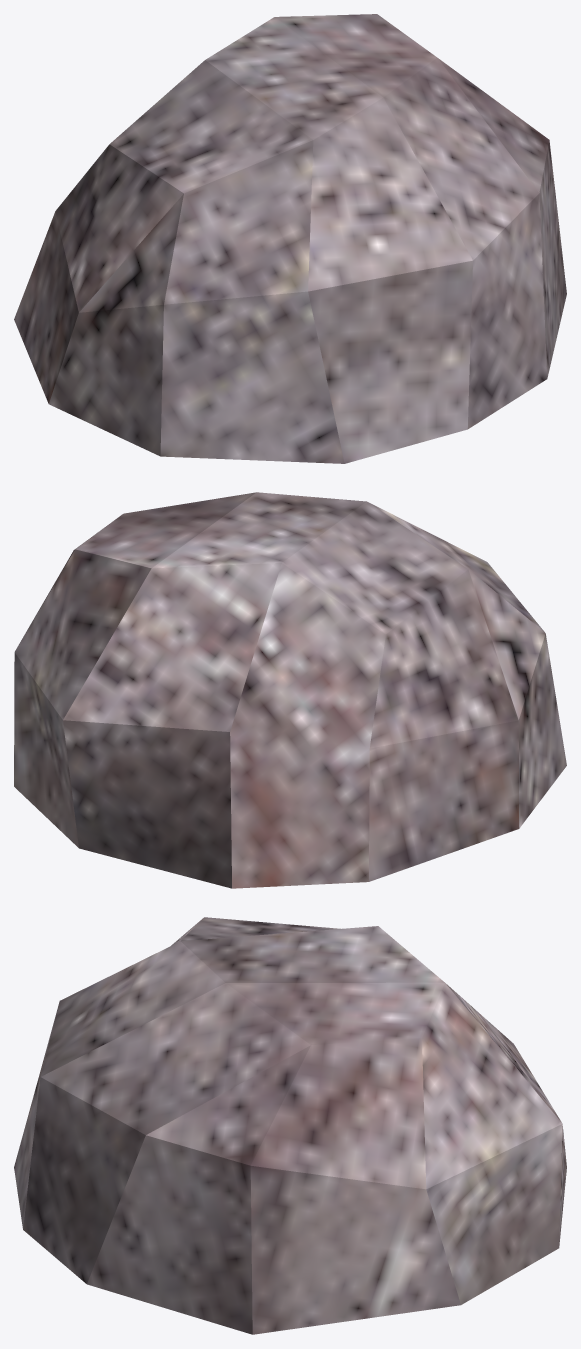
File: MS_Rock_5.fbx
3 renders of one model, top to bottom at view 1: azimuth 30°, elevation 25°; view 2: azimuth 150°, elevation 25°; view 3: azimuth 270°, elevation 25°, orthographic. The views are drawn at different scales.
Parts seen in each view (by area): view 1: MSH_Rock_04; view 2: MSH_Rock_04; view 3: MSH_Rock_04.
Part boxes in pixels (left/top/right/bottom): MSH_Rock_04: left=14, top=14, right=566, bottom=463; MSH_Rock_04: left=14, top=492, right=566, bottom=888; MSH_Rock_04: left=14, top=917, right=566, bottom=1334.
Bounding box in the file's own units: 58.45 × 29.24 × 55.64.
